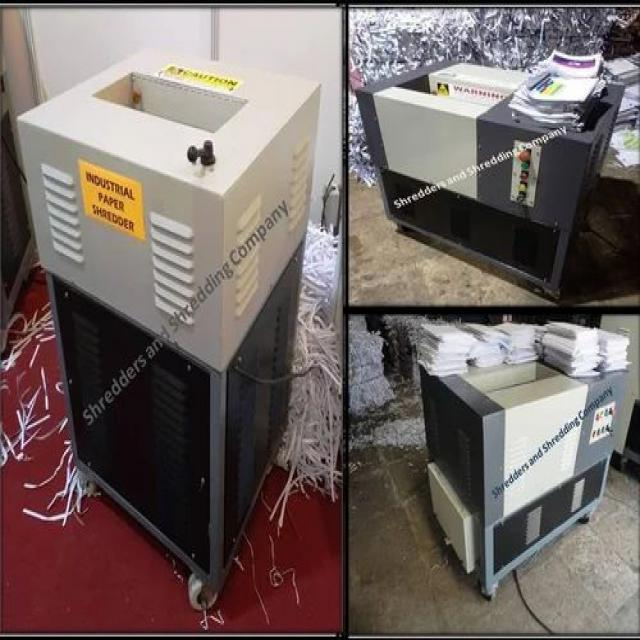palette: (18, 48, 320, 602), (368, 58, 606, 299), (415, 365, 631, 589)
